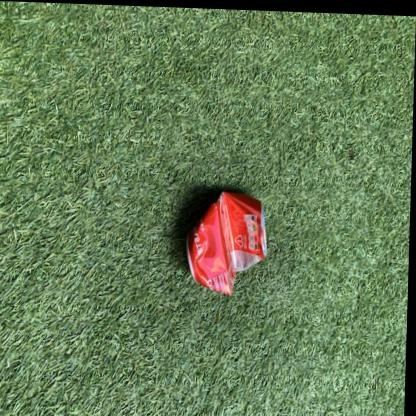trash: (187, 192, 266, 294)
